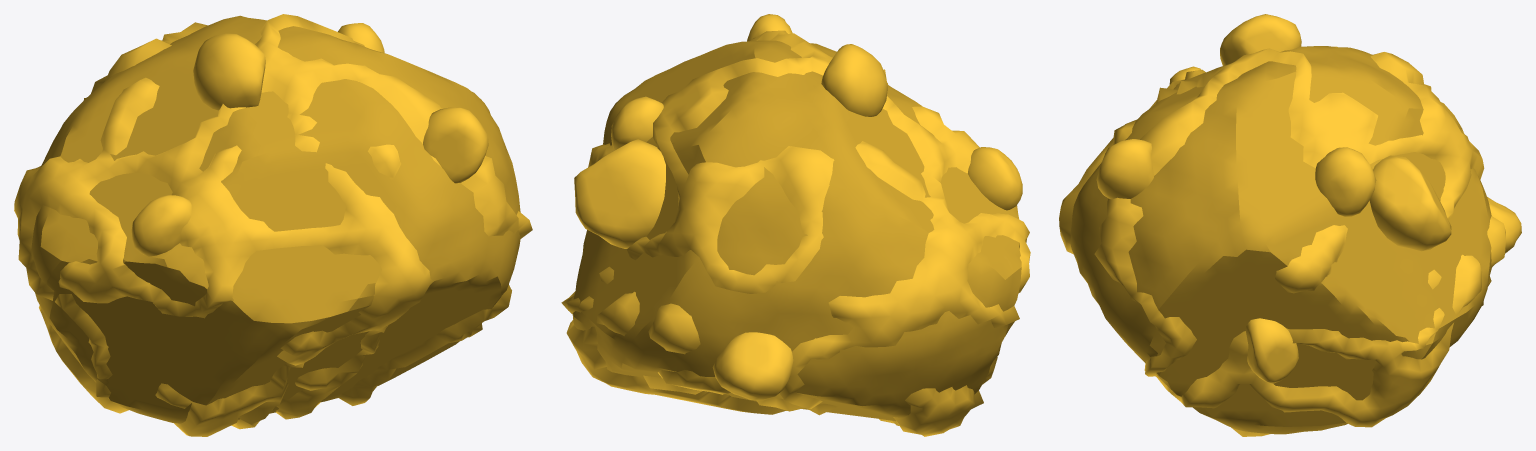
The model's file is RockOreRich.fbx.
The picture shows the model from 3 angles, left to right: view 1: azimuth 30°, elevation 25°; view 2: azimuth 150°, elevation 25°; view 3: azimuth 270°, elevation 25°; orthographic projection. The views are drawn at different scales.
Parts seen in each view (by area): view 1: RockOreRich_Shade, RockOreRich_Ore; view 2: RockOreRich_Shade, RockOreRich_Ore; view 3: RockOreRich_Shade, RockOreRich_Ore.
Part boxes in pixels (bbox=[...]): RockOreRich_Shade: bbox=[31, 15, 520, 423]; RockOreRich_Ore: bbox=[14, 14, 532, 436]; RockOreRich_Shade: bbox=[572, 40, 1021, 421]; RockOreRich_Ore: bbox=[561, 14, 1030, 436]; RockOreRich_Shade: bbox=[1070, 46, 1492, 434]; RockOreRich_Ore: bbox=[1059, 14, 1521, 436].
Size of the model in its own units: 222 by 190 by 218.
